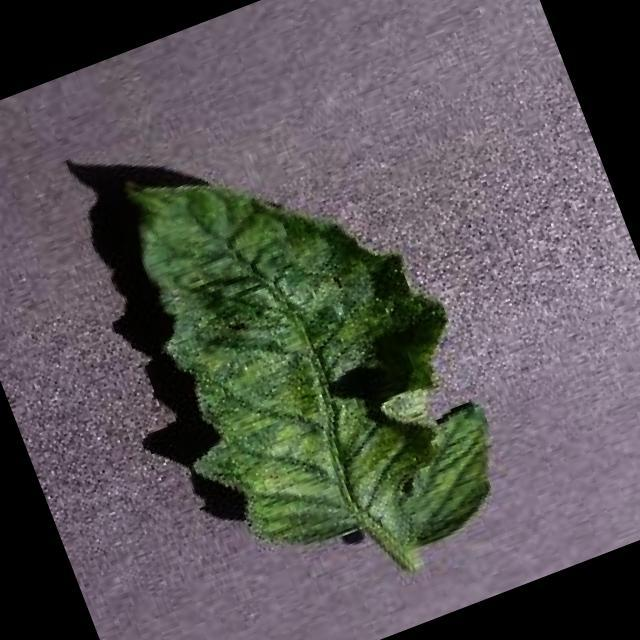Tomato mosaic virus leaf: (87, 91, 524, 614)
